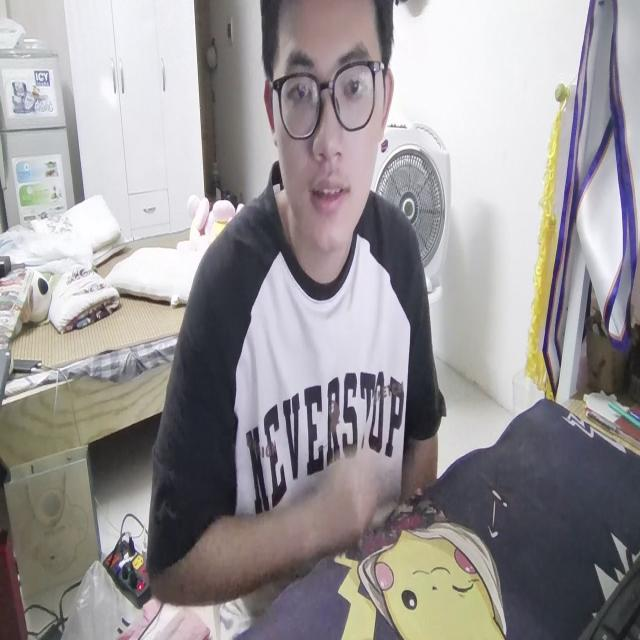student: (144, 0, 447, 615)
